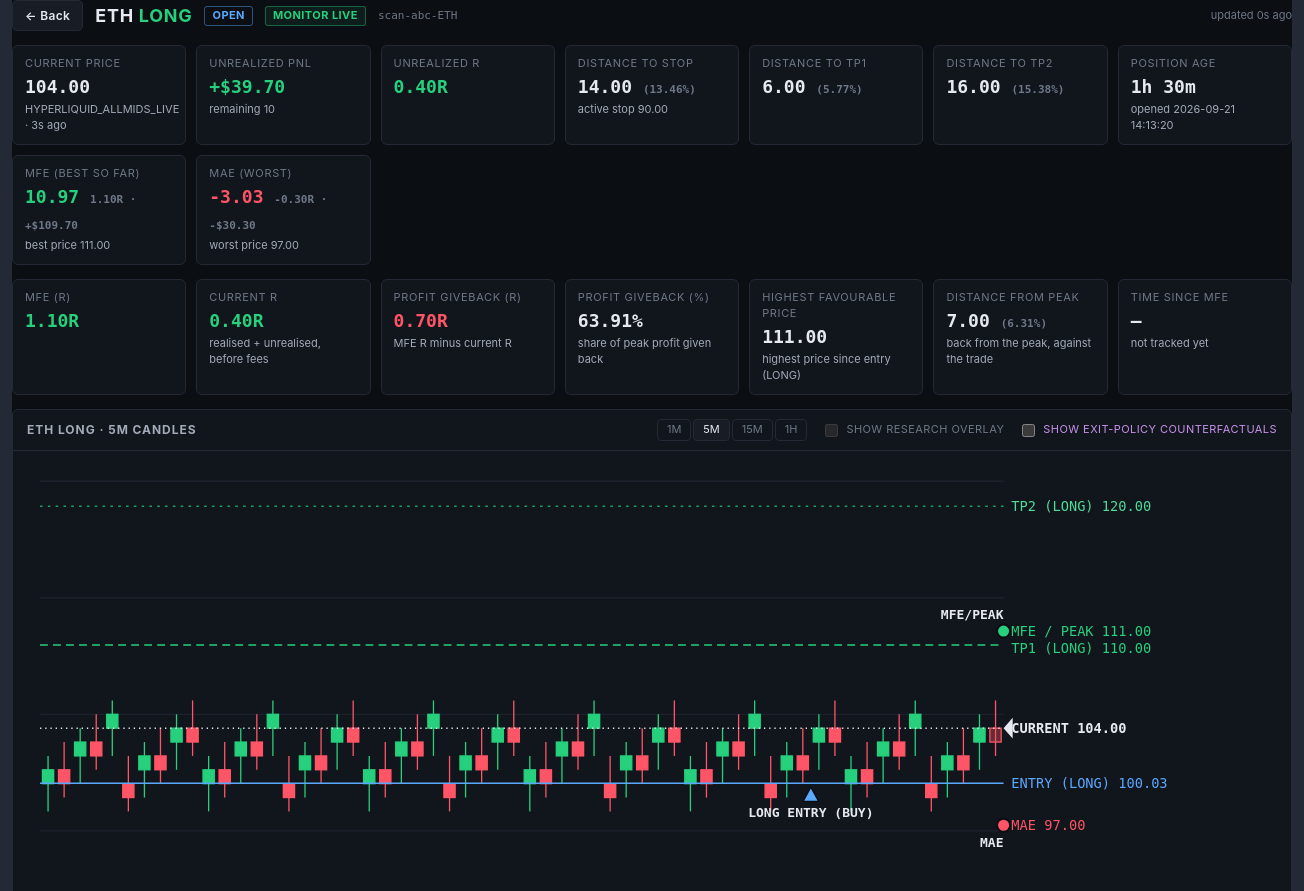
chart polish and exit-policy overlay (#33, #32) › shows a graceful empty state for a trade with no counterfactuals
The image size is (1304, 891).
Click the checkbox labelled "SHOW EXIT-POLICY COUNTERFACTUALS".
click(1029, 430)  # box x1=1022 y1=424 x2=1035 y2=437
(page scrolled)
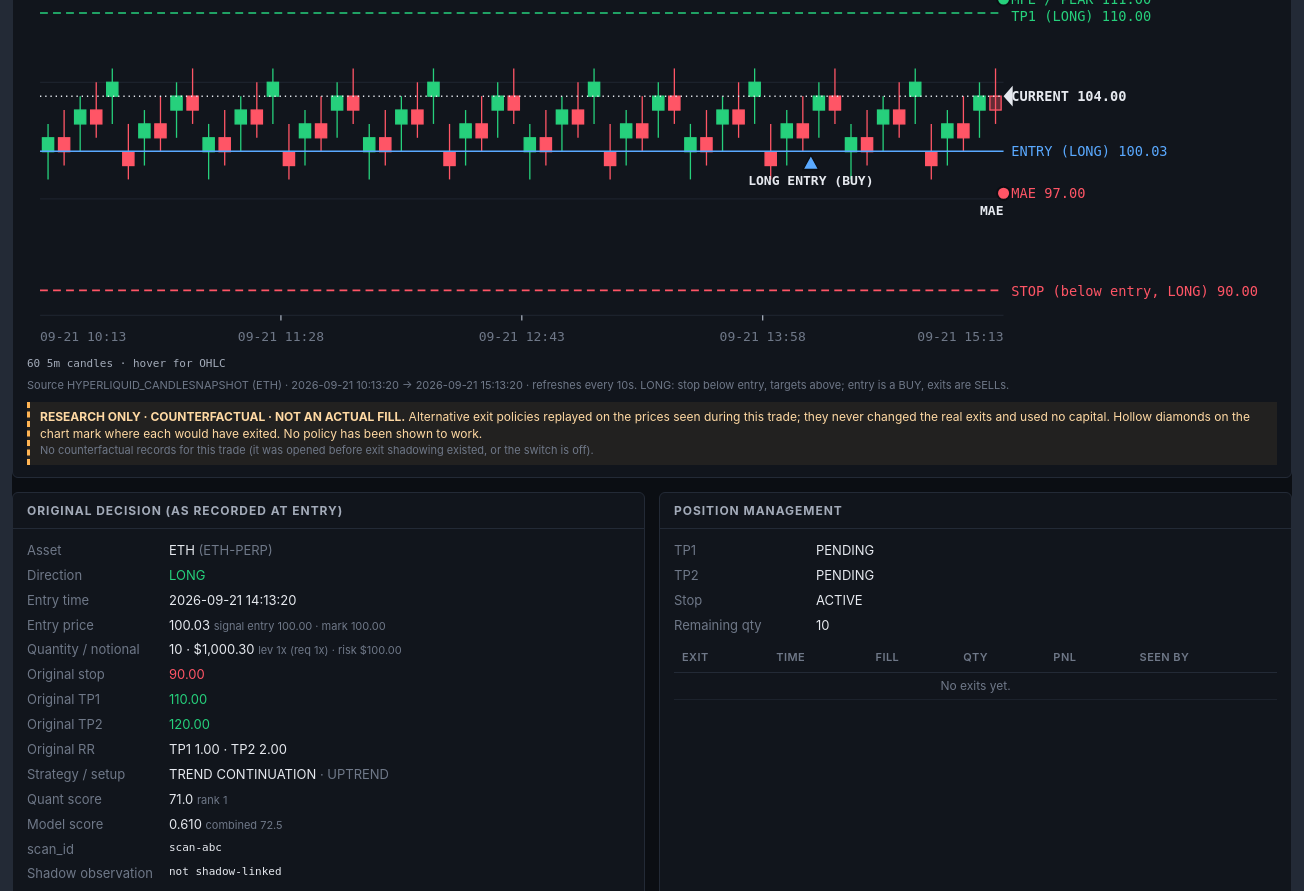
Check: the text "No counterfactual records for this trade" is shown, box x1=40 y1=443 x2=594 y2=457
